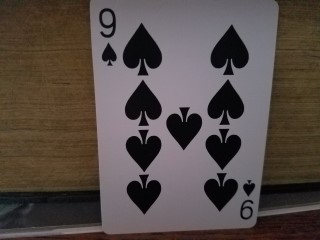NineOfSpades: (89, 1, 279, 235)
